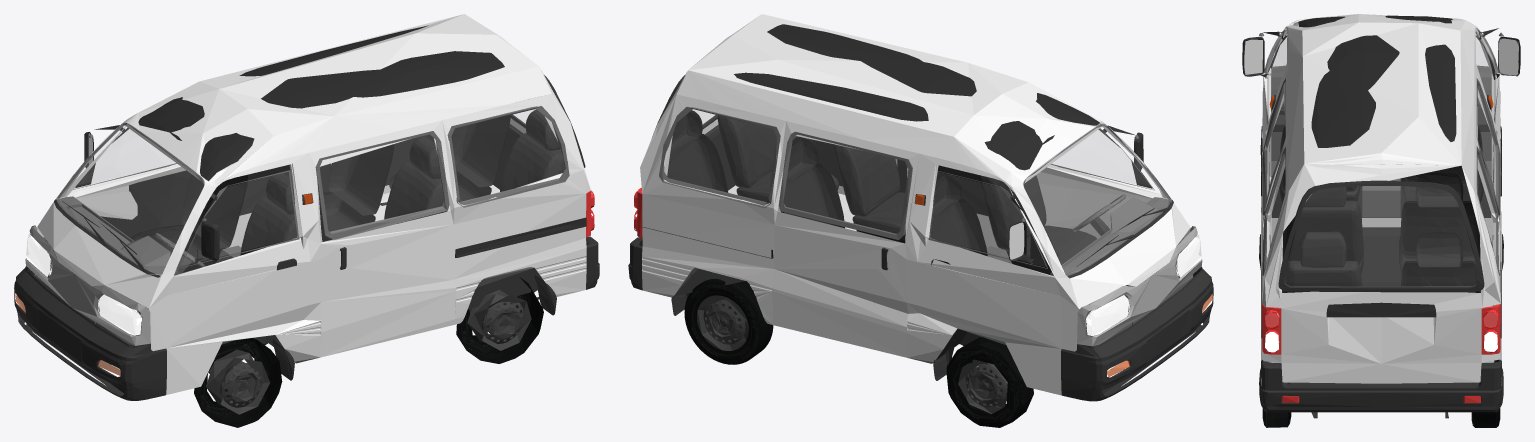
The model's file is damas.glb.
The picture shows the model from 3 angles, left to right: view 1: azimuth 30°, elevation 25°; view 2: azimuth 150°, elevation 25°; view 3: azimuth 270°, elevation 25°; orthographic projection. The views are drawn at different scales.
Parts seen in each view (by area): view 1: Object_12, Object_14, Object_17, Object_19, Object_22, Object_25, Object_11, Object_18, Object_21, Object_24, Object_23; view 2: Object_12, Object_14, Object_17, Object_19, Object_11, Object_22, Object_25, Object_18, Object_21, Object_23, Object_24; view 3: Object_12, Object_14, Object_17, Object_19, Object_22, Object_18, Object_2, Object_3, Object_11, Object_23, Object_10, Object_24.
Boxes of the visible parts, box(x1,y1,x2,y2) form: Object_12: box(34, 14, 590, 394); Object_14: box(101, 25, 563, 273); Object_17: box(26, 109, 563, 334); Object_19: box(14, 75, 599, 400); Object_22: box(30, 106, 569, 335); Object_25: box(94, 125, 531, 414); Object_11: box(194, 277, 543, 427); Object_18: box(34, 196, 241, 369); Object_21: box(25, 225, 150, 345); Object_24: box(26, 202, 544, 397); Object_23: box(15, 193, 592, 376); Object_12: box(640, 14, 1192, 395); Object_14: box(667, 24, 1099, 274); Object_17: box(664, 109, 1201, 335); Object_19: box(628, 75, 1213, 401); Object_11: box(684, 279, 1033, 427); Object_22: box(659, 106, 1197, 336); Object_25: box(697, 125, 1136, 413); Object_18: box(986, 194, 1193, 345); Object_21: box(1077, 226, 1202, 346); Object_23: box(635, 214, 1212, 377); Object_24: box(673, 267, 1202, 402); Object_12: box(1261, 14, 1501, 385); Object_14: box(1269, 15, 1493, 305); Object_17: box(1265, 38, 1496, 286); Object_19: box(1242, 36, 1520, 412); Object_22: box(1259, 32, 1503, 275); Object_18: box(1271, 65, 1491, 217); Object_2: box(1244, 38, 1518, 75); Object_3: box(1262, 304, 1500, 402); Object_11: box(1262, 343, 1500, 427); Object_23: box(1265, 312, 1497, 352); Object_10: box(1265, 311, 1497, 328); Object_24: box(1264, 348, 1481, 418).
Size of what is drawn, in the model's own units: 8.64 by 4.77 by 4.04.
Materials: 15 (1 with a texture image).
